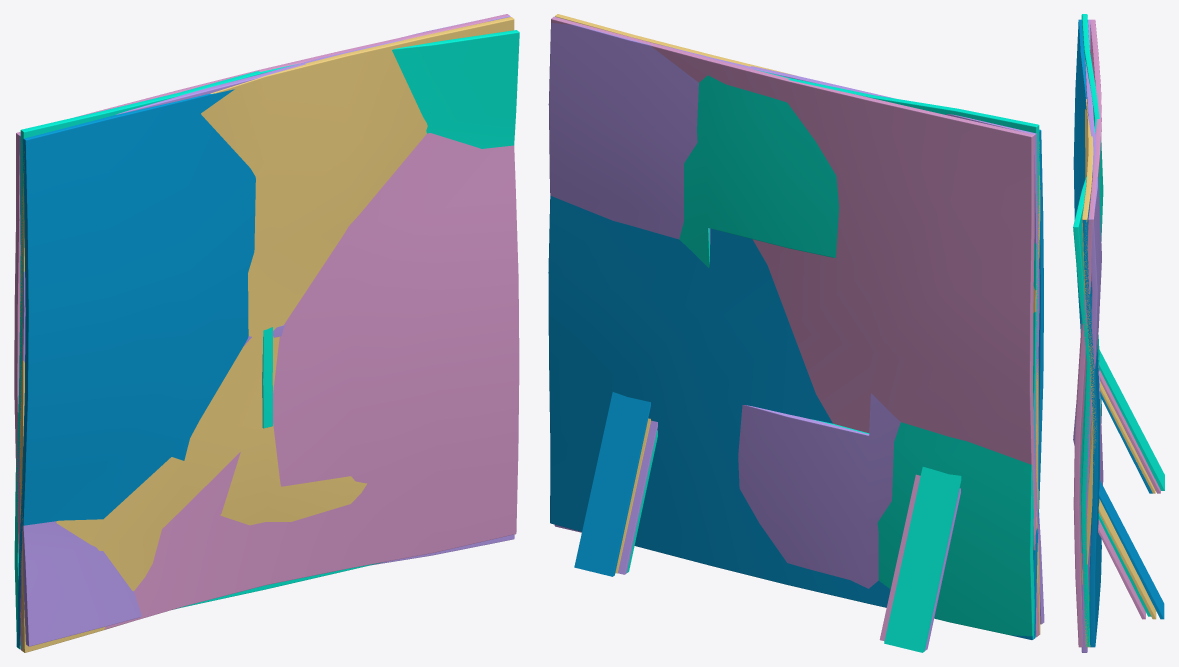
Rendered from Murs_1_5.fbx.
The picture shows the model from 3 angles, left to right: view 1: azimuth 30°, elevation 25°; view 2: azimuth 150°, elevation 25°; view 3: azimuth 270°, elevation 25°; orthographic projection. The views are drawn at different scales.
Visible parts, largest first — view 1: pasted__Mur1 (×2), Mur1, Mur_2, pasted__Mur_3, pCube1; view 2: pasted__Mur1 (×2), Mur1, pasted__Mur_3, Mur_2, Soutient6, Soutient2, pasted__Soutient5, pasted__Soutient1; view 3: pasted__Mur1 (×2), Mur1, Mur_2, pasted__Mur_3, pasted__Soutient2 (×2), Soutient6, Soutient2, pasted__Soutient1 (×2), Soutient5, Soutient1.
Boxes of the visible parts, box(x1,y1,x2,y2) form: pasted__Mur1 (×2): box(14, 14, 519, 652); Mur1: box(16, 89, 255, 648); Mur_2: box(14, 30, 519, 649); pasted__Mur_3: box(18, 14, 514, 646); pCube1: box(262, 327, 272, 428); pasted__Mur1 (×2): box(551, 14, 1040, 637); Mur1: box(548, 129, 1043, 639); pasted__Mur_3: box(548, 16, 1044, 624); Mur_2: box(679, 69, 1039, 639); Soutient6: box(884, 467, 961, 652); Soutient2: box(574, 392, 650, 576); pasted__Soutient5: box(618, 420, 657, 574); pasted__Soutient1: box(879, 474, 920, 641); pasted__Mur1 (×2): box(1073, 19, 1101, 647); Mur1: box(1073, 19, 1101, 647); Mur_2: box(1073, 14, 1103, 646); pasted__Mur_3: box(1073, 19, 1103, 652); pasted__Soutient2 (×2): box(1098, 499, 1156, 619); Soutient6: box(1099, 349, 1164, 490); Soutient2: box(1099, 480, 1164, 619); pasted__Soutient1 (×2): box(1099, 370, 1160, 493); Soutient5: box(1098, 513, 1150, 616); Soutient1: box(1100, 392, 1152, 493).
Size of the model in its own units: 250 by 256 by 48.51.
